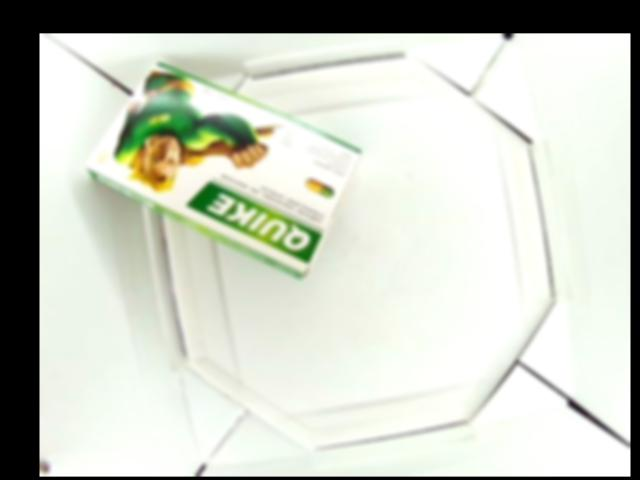Medicine: (84, 58, 360, 281)
